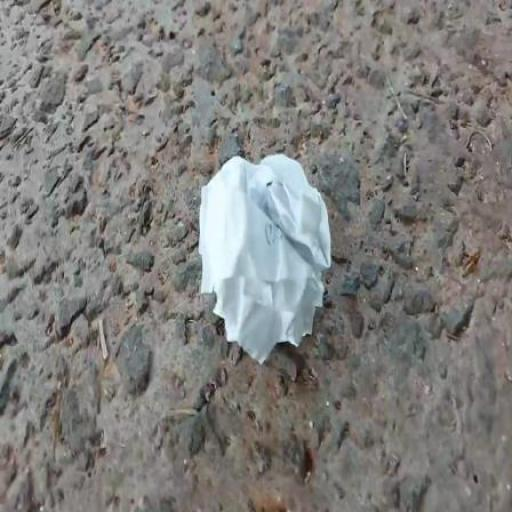paper: (131, 137, 390, 393)
